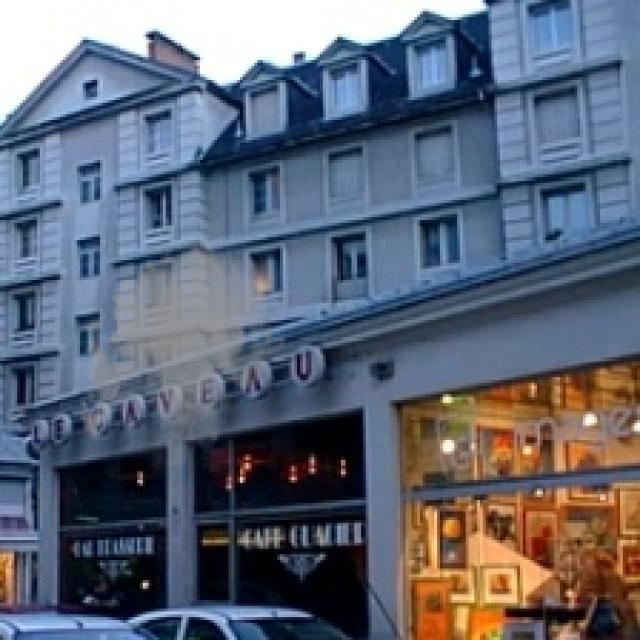smoke: (74, 232, 289, 474)
